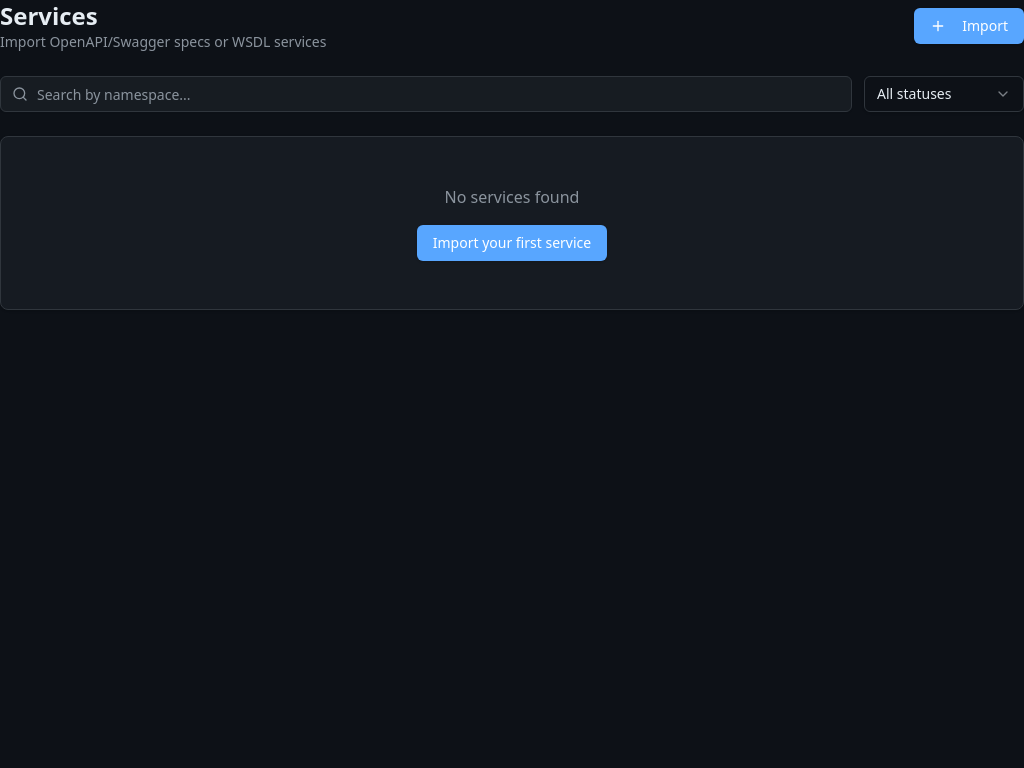
Test: ServicesPage › opens import modal on button click
Expected: the text "No services found" is shown, [444, 185, 579, 209]
Click the button "Import": (969, 26) [914, 8, 1023, 44]
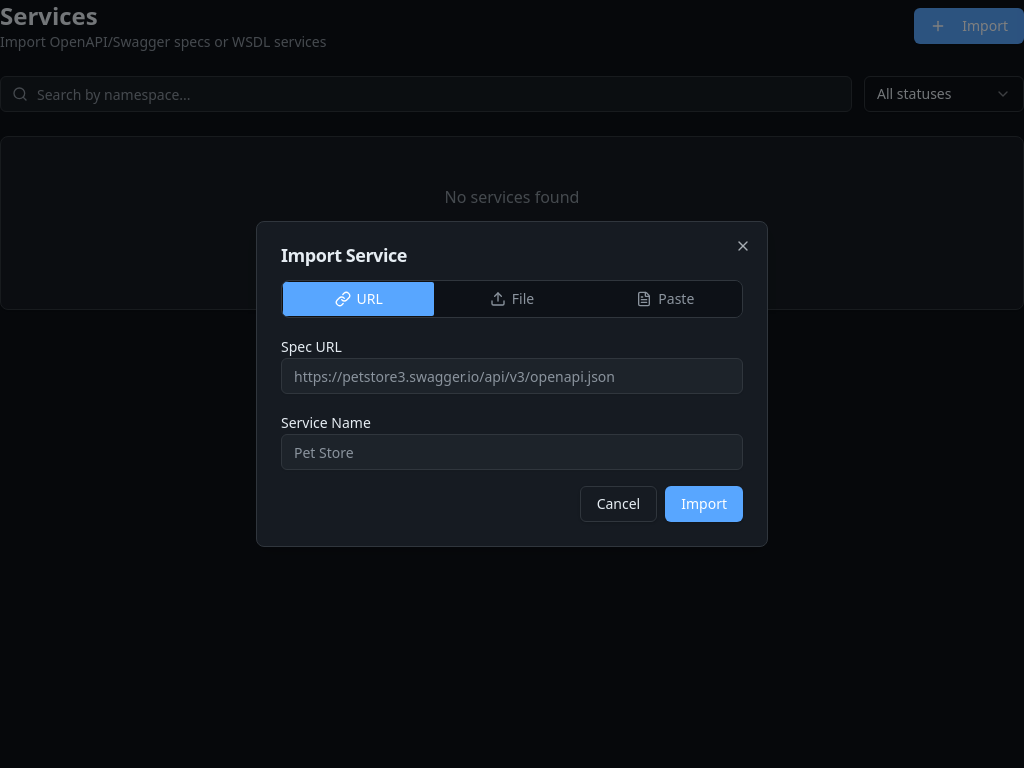
Now the heading "Import Service" is shown, box [281, 243, 407, 267]
Now the field with placeholder "https://petstore3.swagger.io/api/v3/openapi.json" is shown, box [281, 358, 743, 394]
